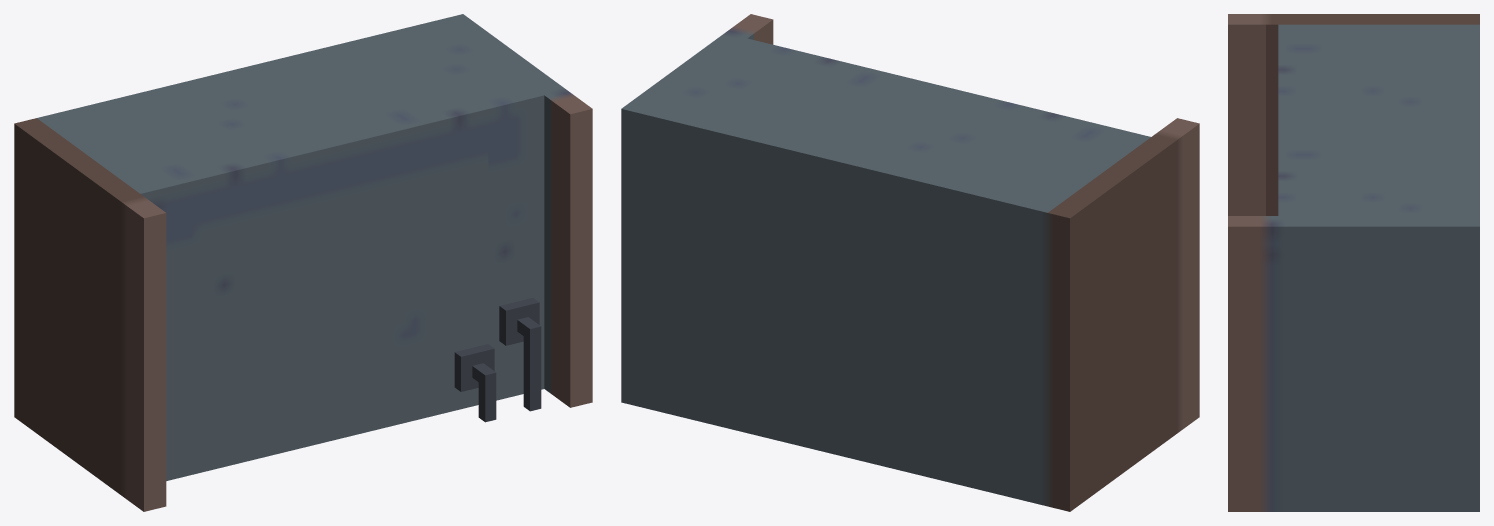
The model's file is BuildingBlock-4.fbx.
3 views of the same model, side by side, from view 1: azimuth 30°, elevation 25°; view 2: azimuth 150°, elevation 25°; view 3: azimuth 270°, elevation 25° (orthographic). The views are drawn at different scales.
Parts seen in each view (by area): view 1: BuildingBlock_4; view 2: BuildingBlock_4; view 3: BuildingBlock_4.
Boxes of the visible parts, x1,y1,x2,y2 form: BuildingBlock_4: (14, 14, 592, 511); BuildingBlock_4: (621, 14, 1199, 511); BuildingBlock_4: (1228, 14, 1479, 511).
Bounding box in the file's own units: 400 × 250 × 200.
